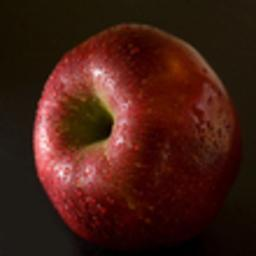apple: (29, 21, 239, 251)
